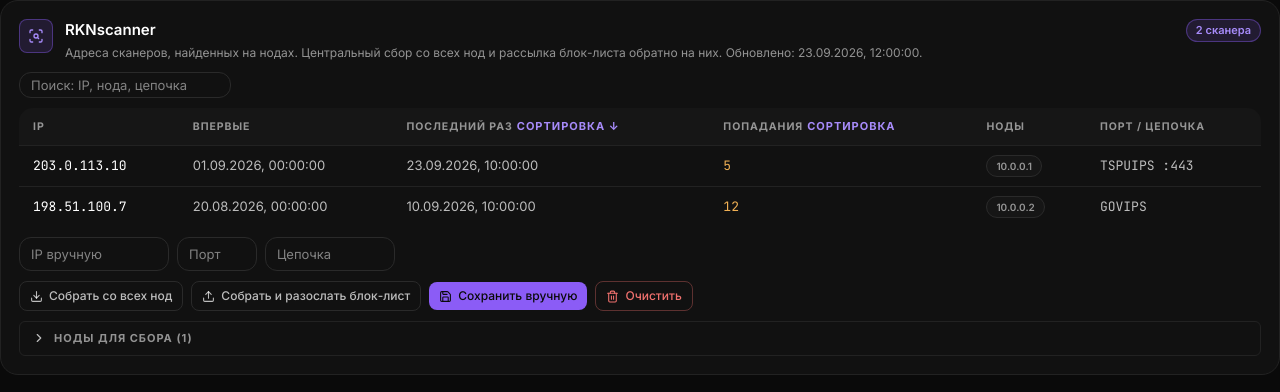
it: RknScanners › filters rows by search and sorts by hits on demand
The image size is (1280, 392).
Expected: the text "203.0.113.10" is shown, [19,146,179,187]
Note: Сортировка по попаданиям (desc → asc по повторному клику).
Click the button titled "Сортировать по числу попаданий" at coordinates (851, 127), box [807,118,896,135]
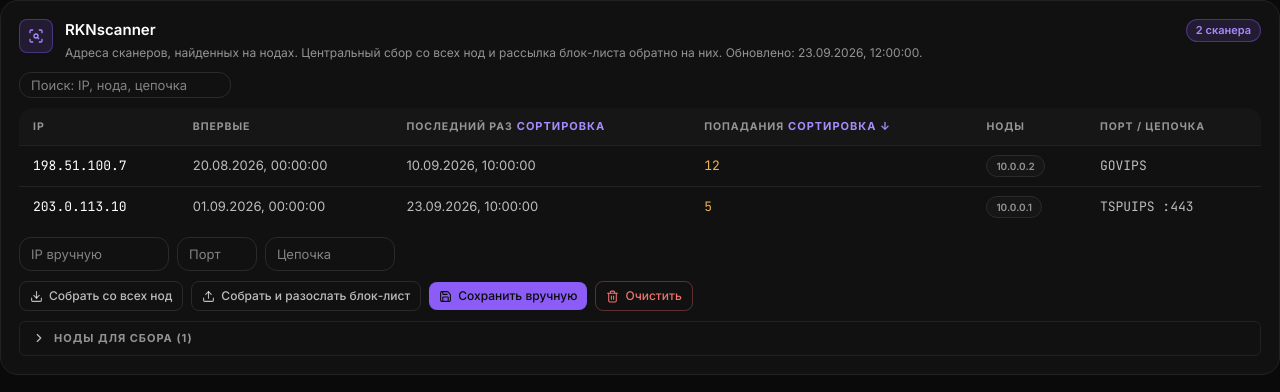
Click the button titled "Сортировать по числу попаданий" at coordinates (840, 127), box [788,118,891,135]
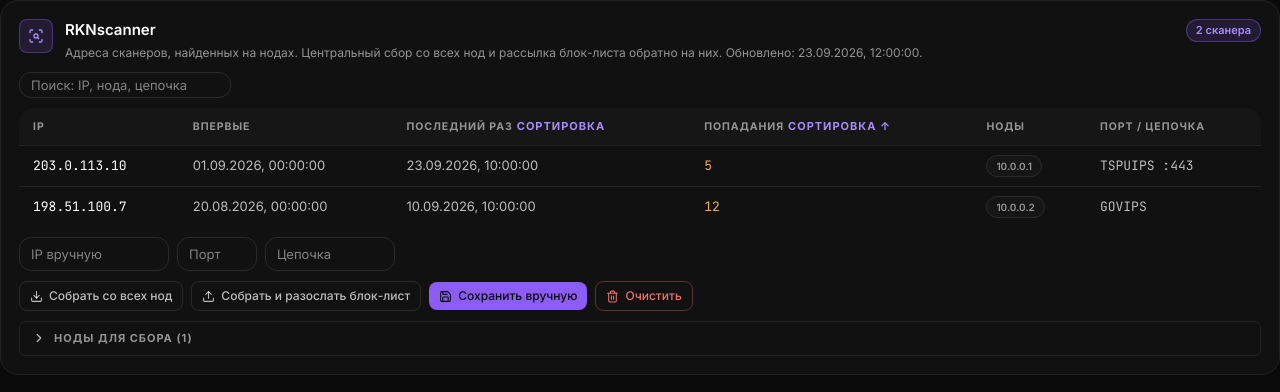
Note: Поиск по IP/ноде/цепочке.
Type "GOVIPS" into the field named "Поиск по сканерам" at coordinates (125, 85), box [19,72,231,98]
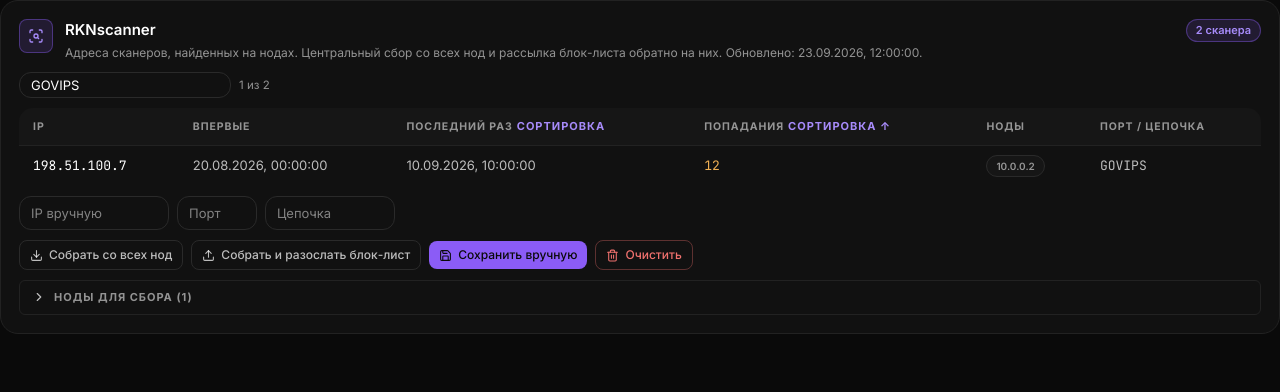
Expected: the text "1 из 2" is shown, [239,77,270,94]
